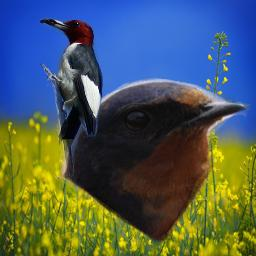Swallow: (60, 77, 252, 243)
Woodpecker: (40, 17, 103, 176)
